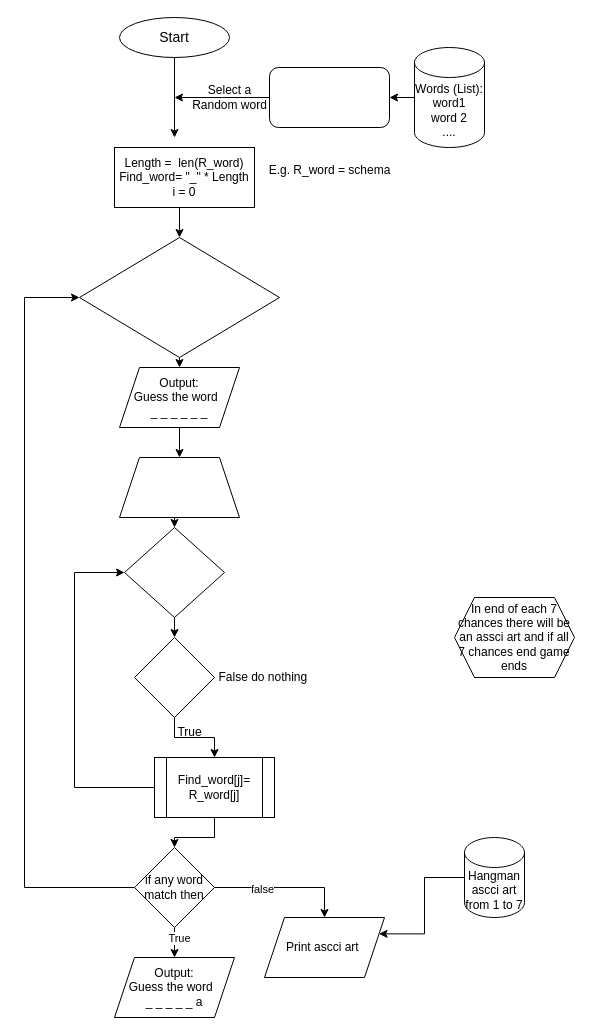
This 592x1035 diagram has some shape labels left out. Here are the shapes that lost their labels. From the top down, the centre of each, then its label:
At [329,97]: "Import random".
At [179,297]: "While: i<7 or Find_word !=R_word".
At [179,487]: "Input: guess_w = Enter a word to check".
At [174,572]: "For j in range (0, length)".
At [174,677]: "if guess_w == R_word[j]".
